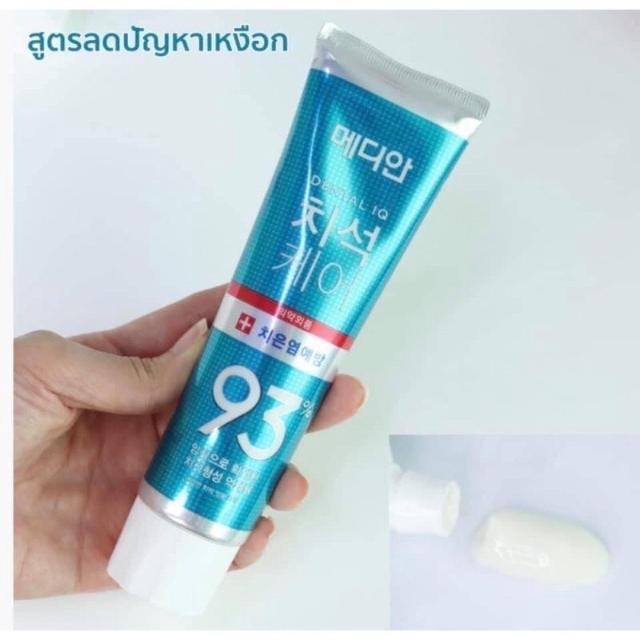Squeeze Tube: (96, 0, 525, 630)
